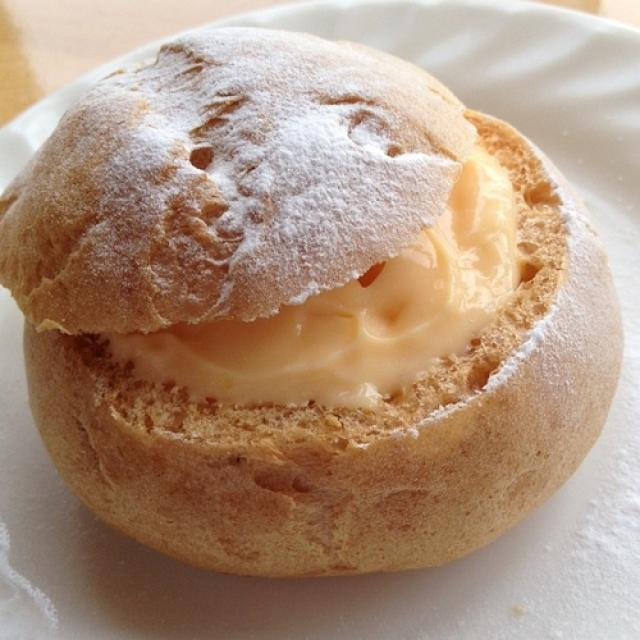炸货点心: (9, 10, 631, 613)
蛋糕甜品: (9, 10, 631, 613)
